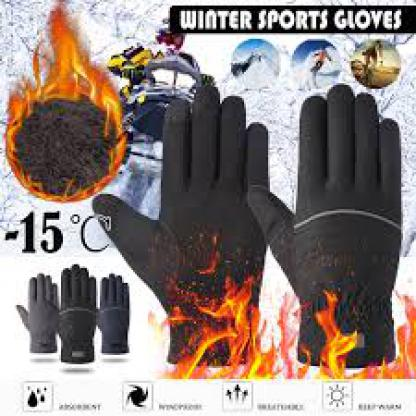with_gloves: (92, 87, 260, 366), (242, 85, 403, 366), (55, 264, 98, 362), (18, 270, 58, 353), (92, 274, 132, 355)
